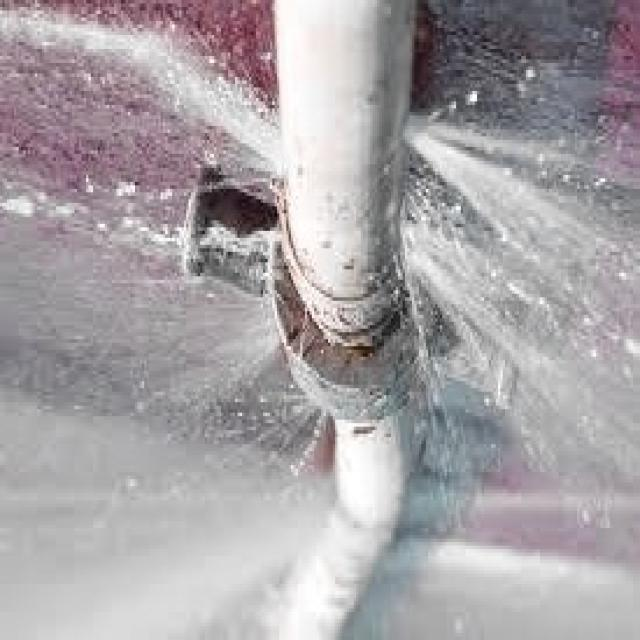Leak: (384, 192, 417, 298), (263, 217, 298, 304), (263, 98, 291, 189), (389, 94, 428, 158)
